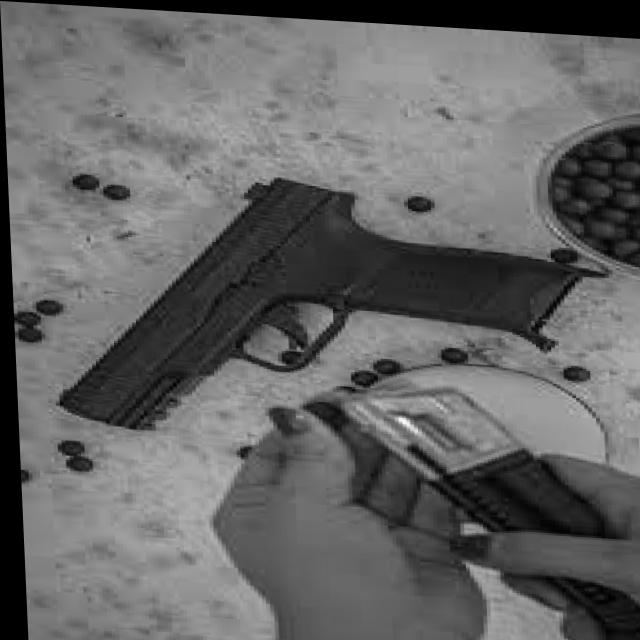handgun: (45, 165, 600, 453)
